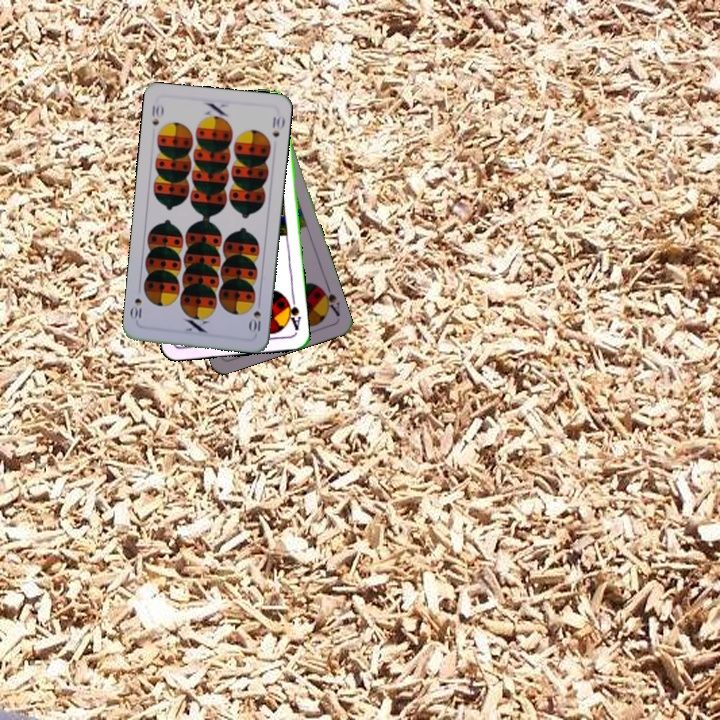S10: (246, 306, 263, 337), (148, 101, 166, 127)
SA: (316, 281, 342, 319), (282, 293, 303, 332)
